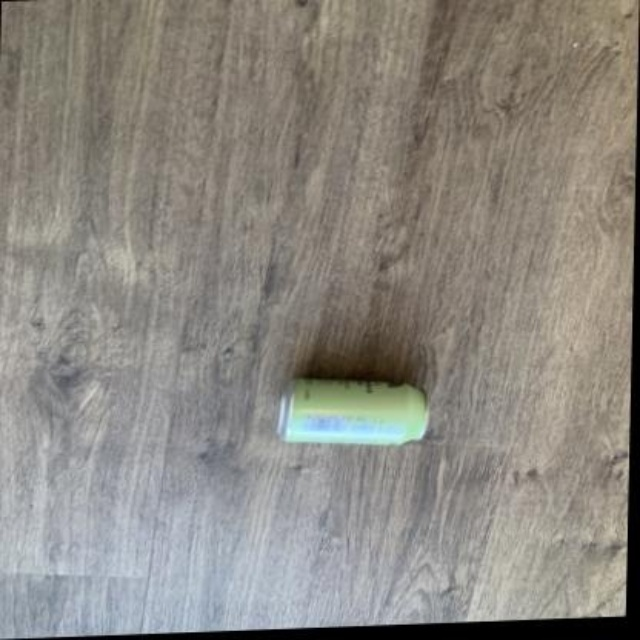trash: (277, 378, 426, 443)
